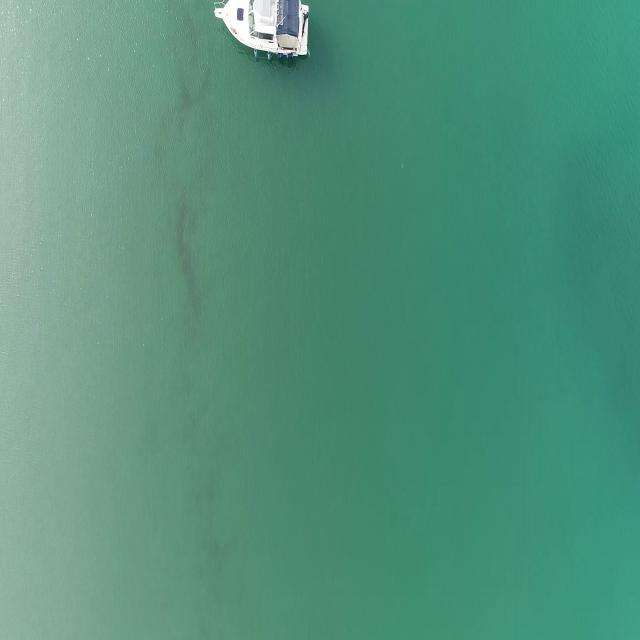boat: (213, 0, 310, 68)
